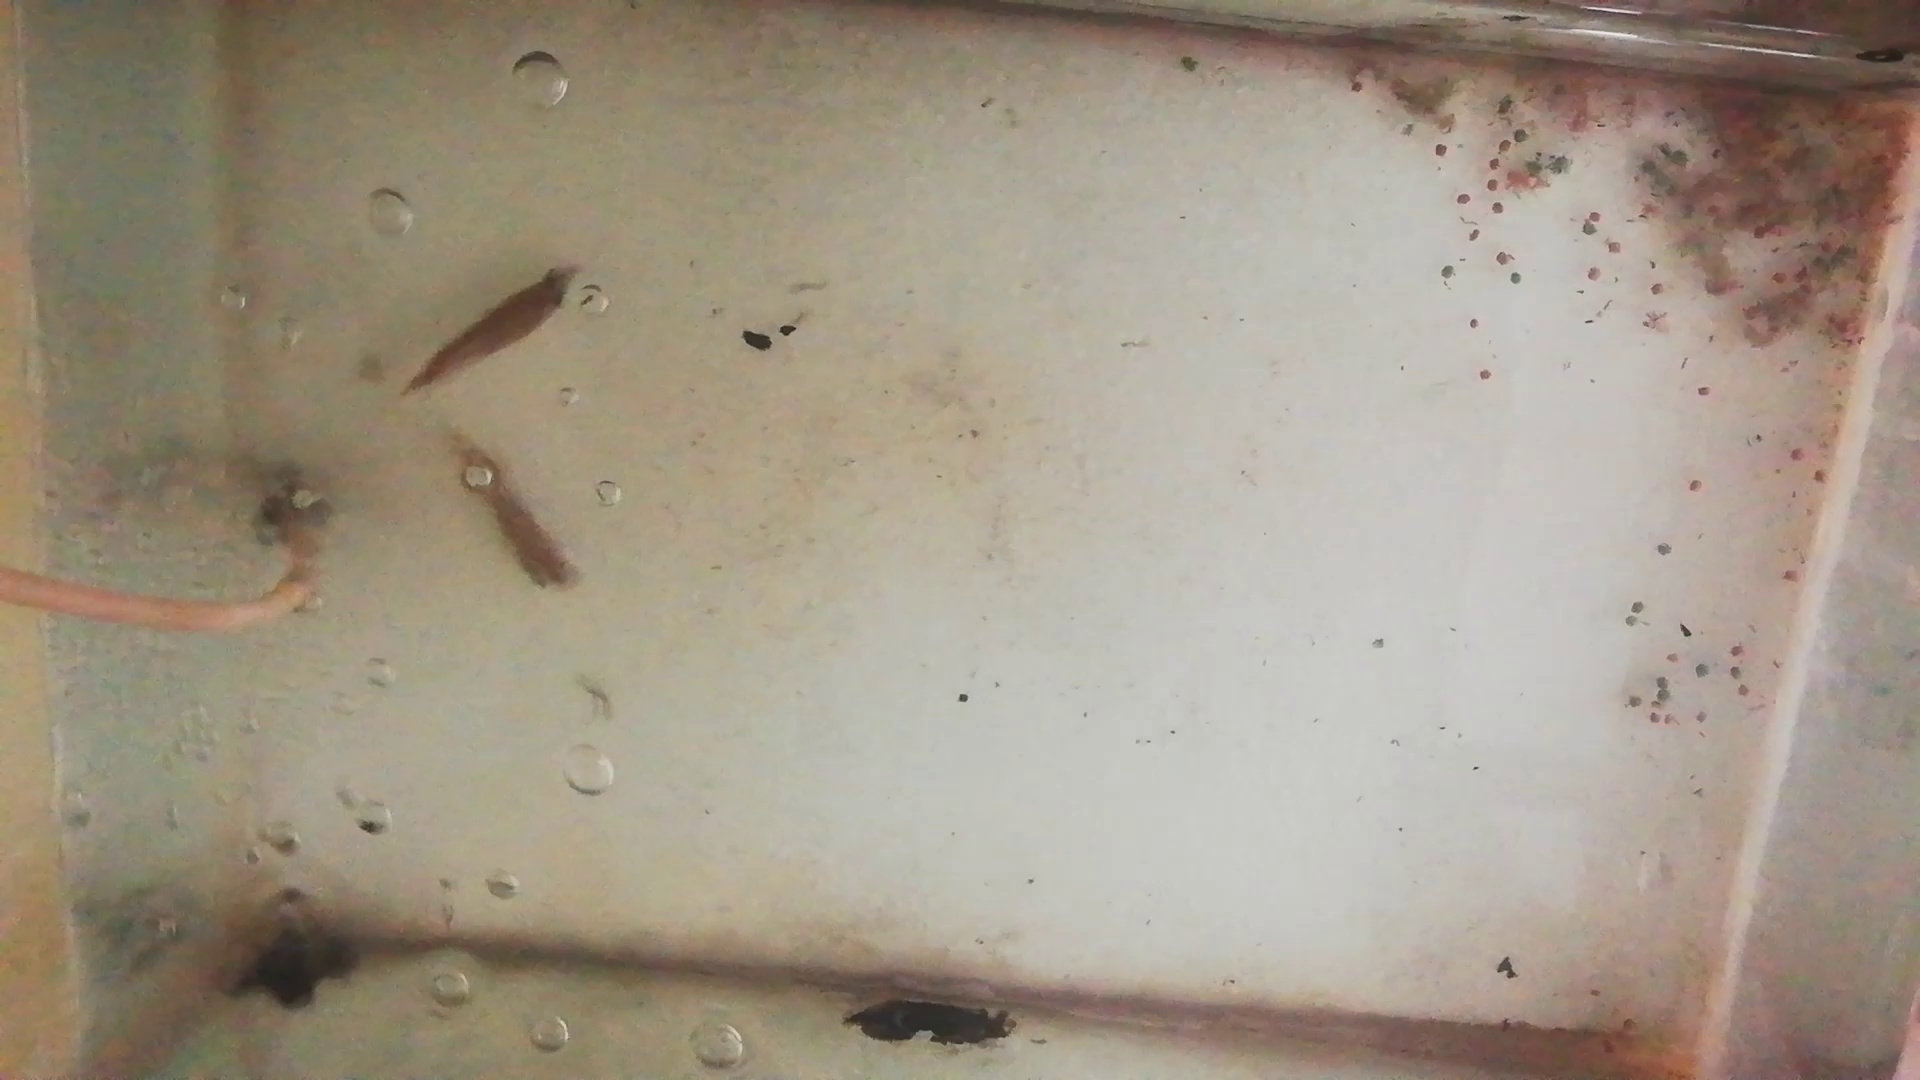fish: (404, 262, 575, 396), (452, 438, 582, 593)
